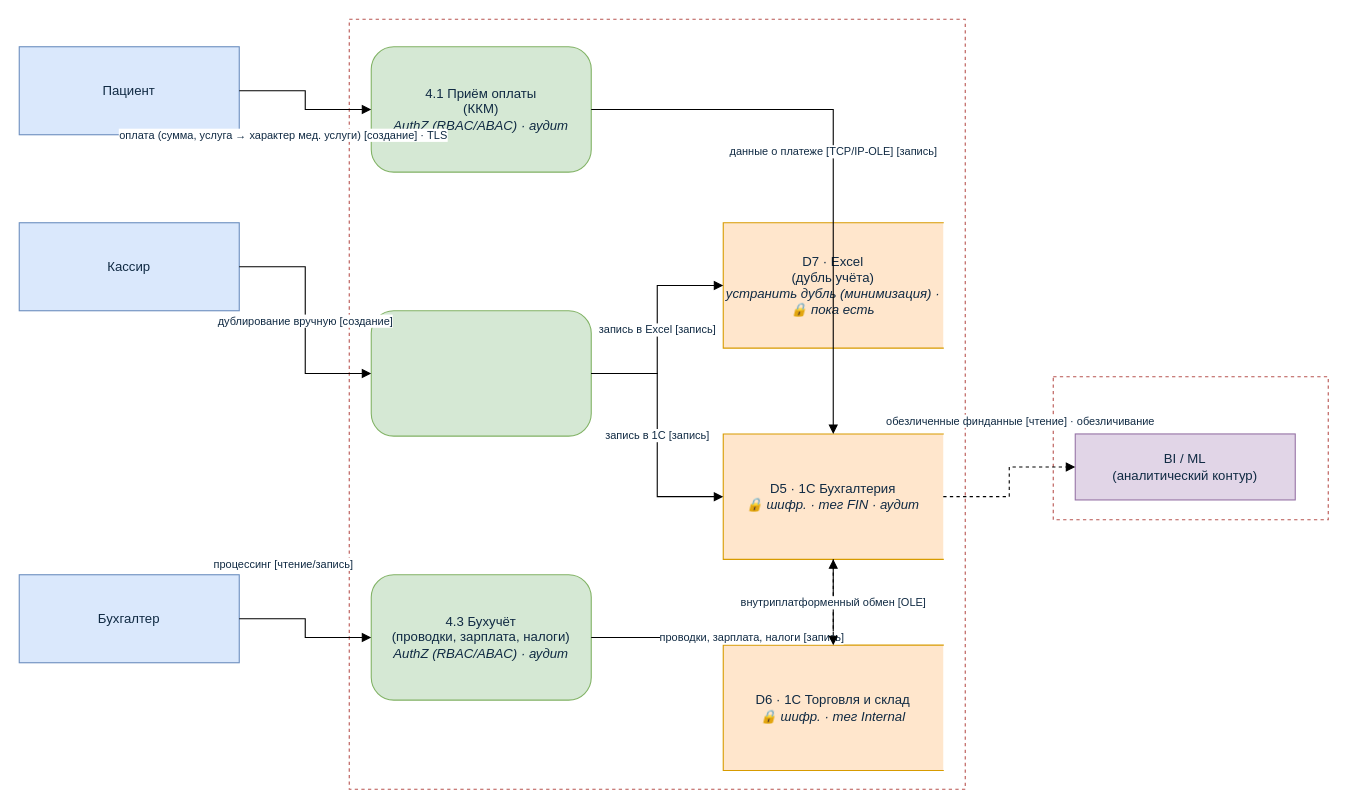
The diagram is 1348 pixels wide and 809 high, and some of its shapes have lost their labels. The shapes that lost their labels are listed below. From the top down, each one's box as (x1, y1, x2, y2) in pixels, then its label:
(370, 310, 591, 436): 4.2 Двойной учёт (Excel + 1С) AuthZ (RBAC/ABAC) · аудит
(348, 18, 965, 789): Защищённый контур (фин.): шифрование · RBAC/ABAC · аудит
(1052, 376, 1328, 520): Аналитический контур (только обезличенные данные)
